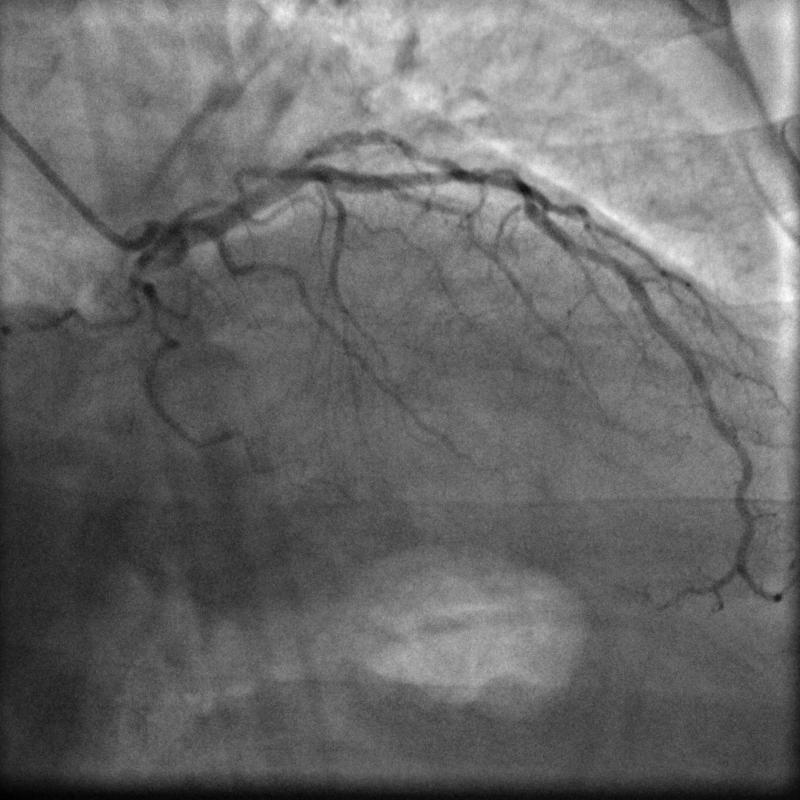Stenosis: (461, 163, 536, 206)
